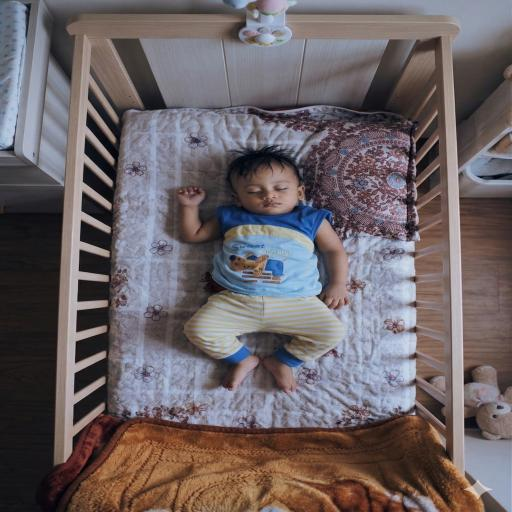baby: (178, 146, 348, 393)
crib: (55, 15, 463, 473)
